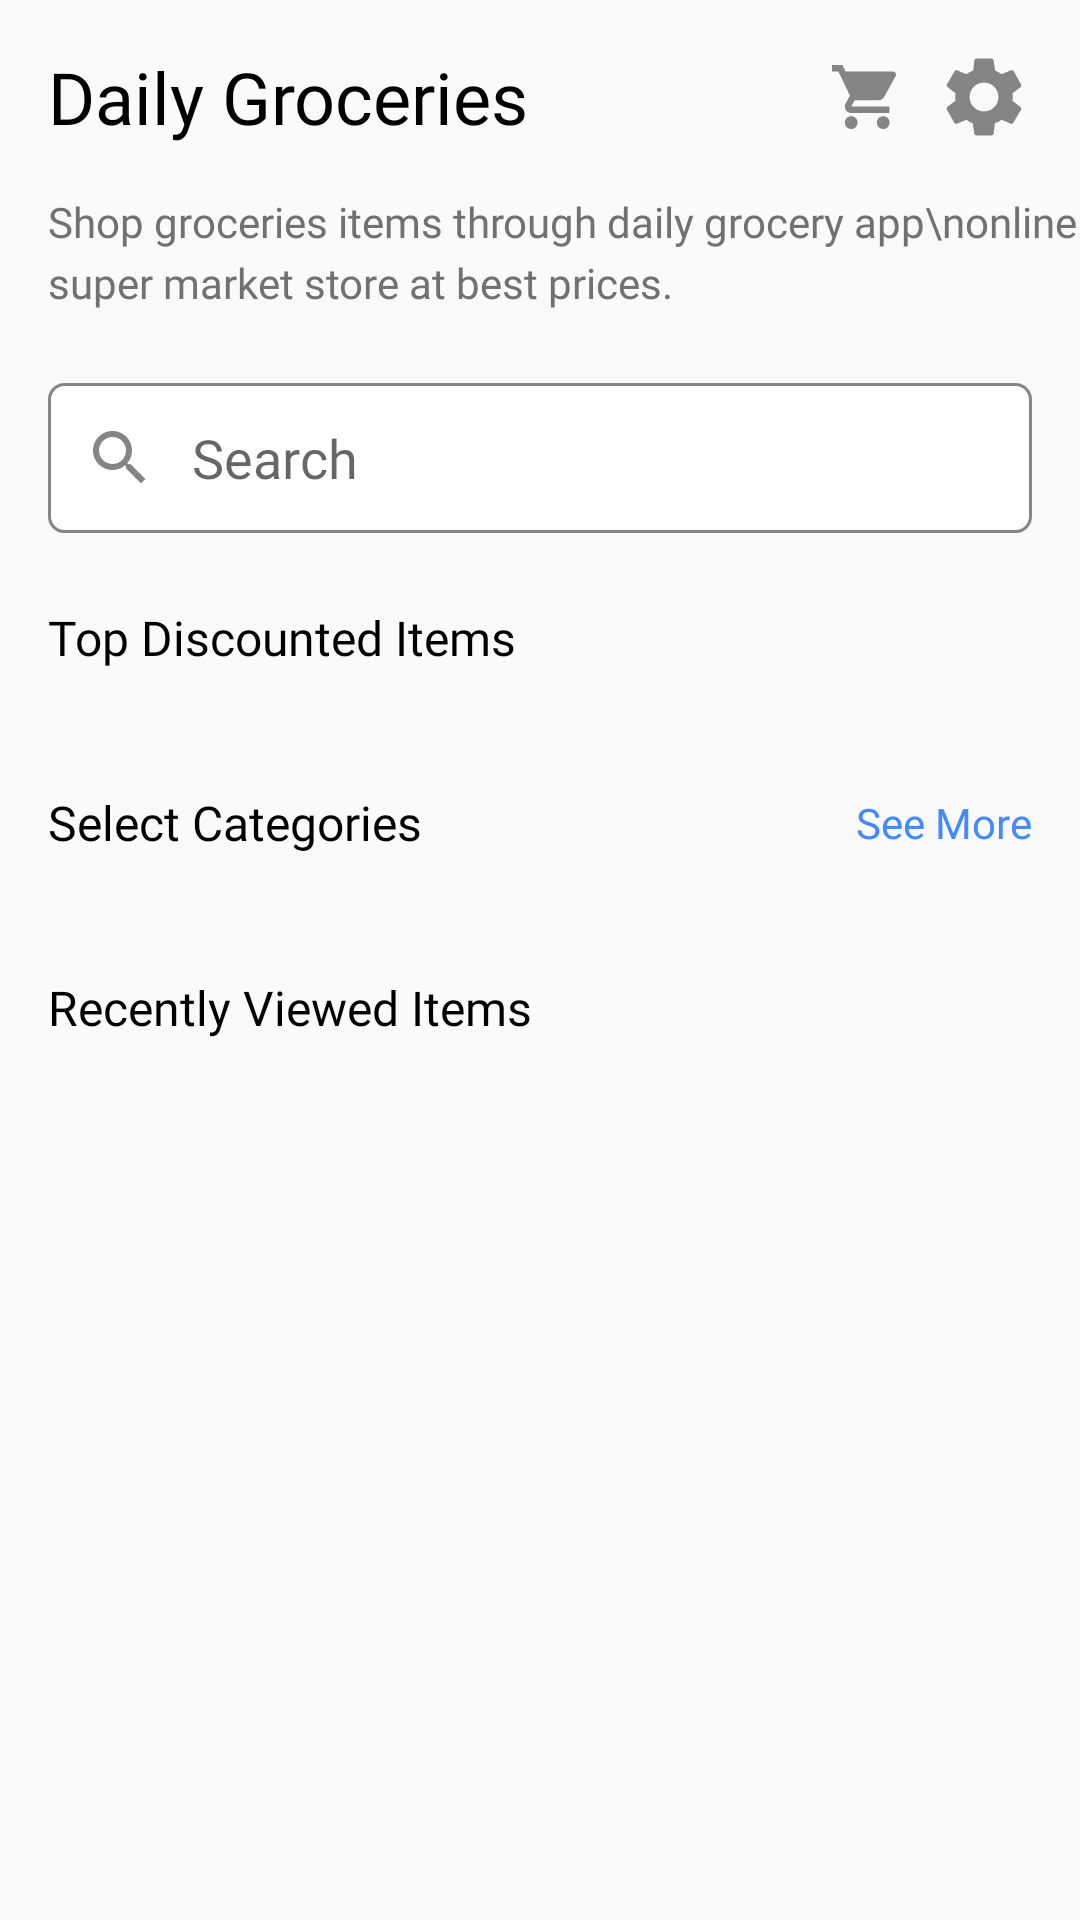

Icons on this 1080w x 1920h Android screen, each with its box as bbox=(x1, y1, x2, y2):
account settings: bbox=(946, 58, 1022, 136)
cart: bbox=(832, 65, 896, 129)
